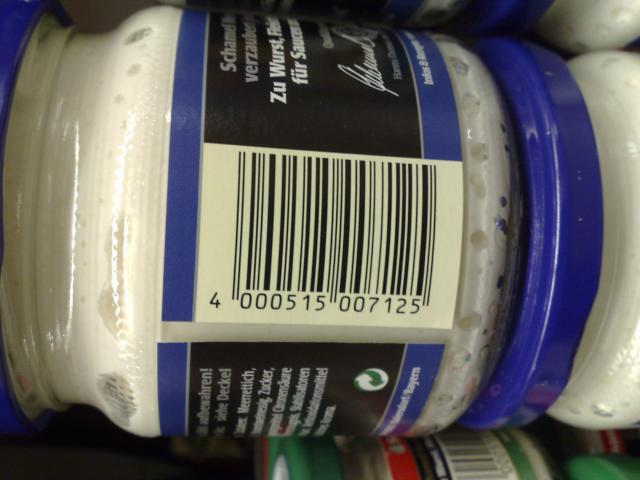Barkod: (228, 151, 437, 298)
